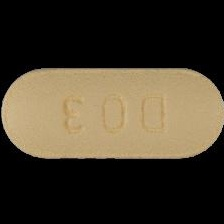35356-832: (0, 0, 224, 224)
